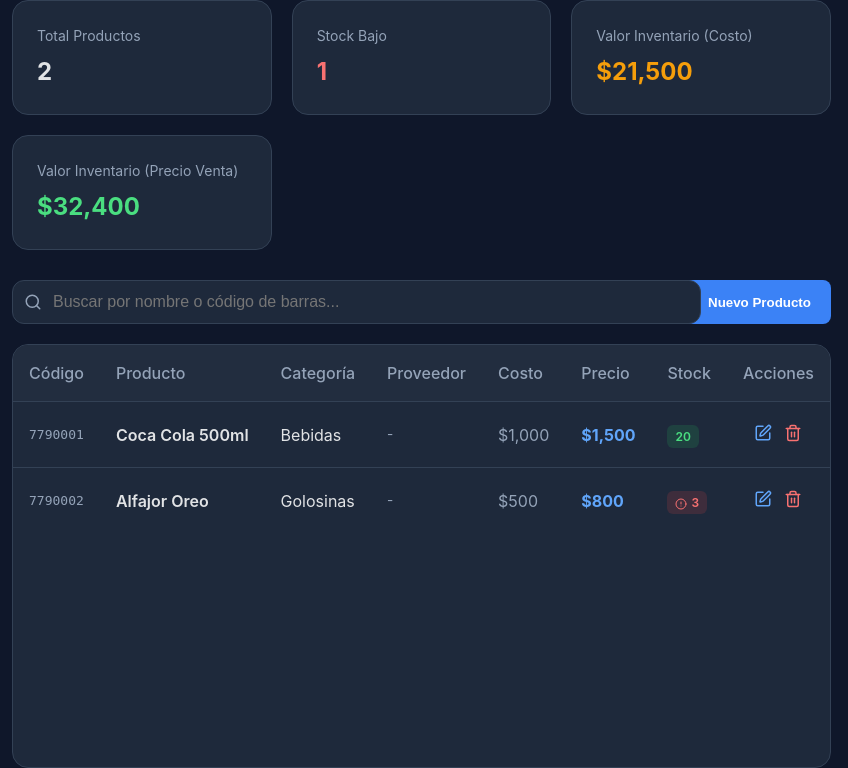
Inventario – search filter › filters products by barcode
Expected: the text "Coca Cola 500ml" is shown, [100,402,265,468]
Type "7790001" into the field with placeholder "Buscar por nombre o código de barras..." at x=356, y=302, box [12,280,701,324]
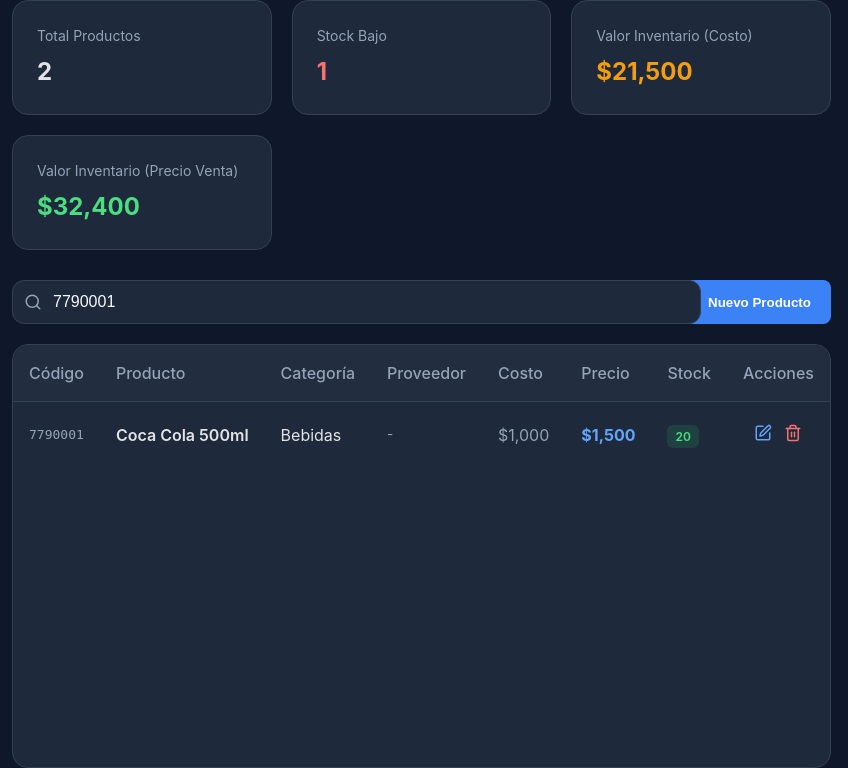
Expected: the text "Coca Cola 500ml" is shown, [100,402,265,467]
Expected: the text "Alfajor Oreo" is gone
